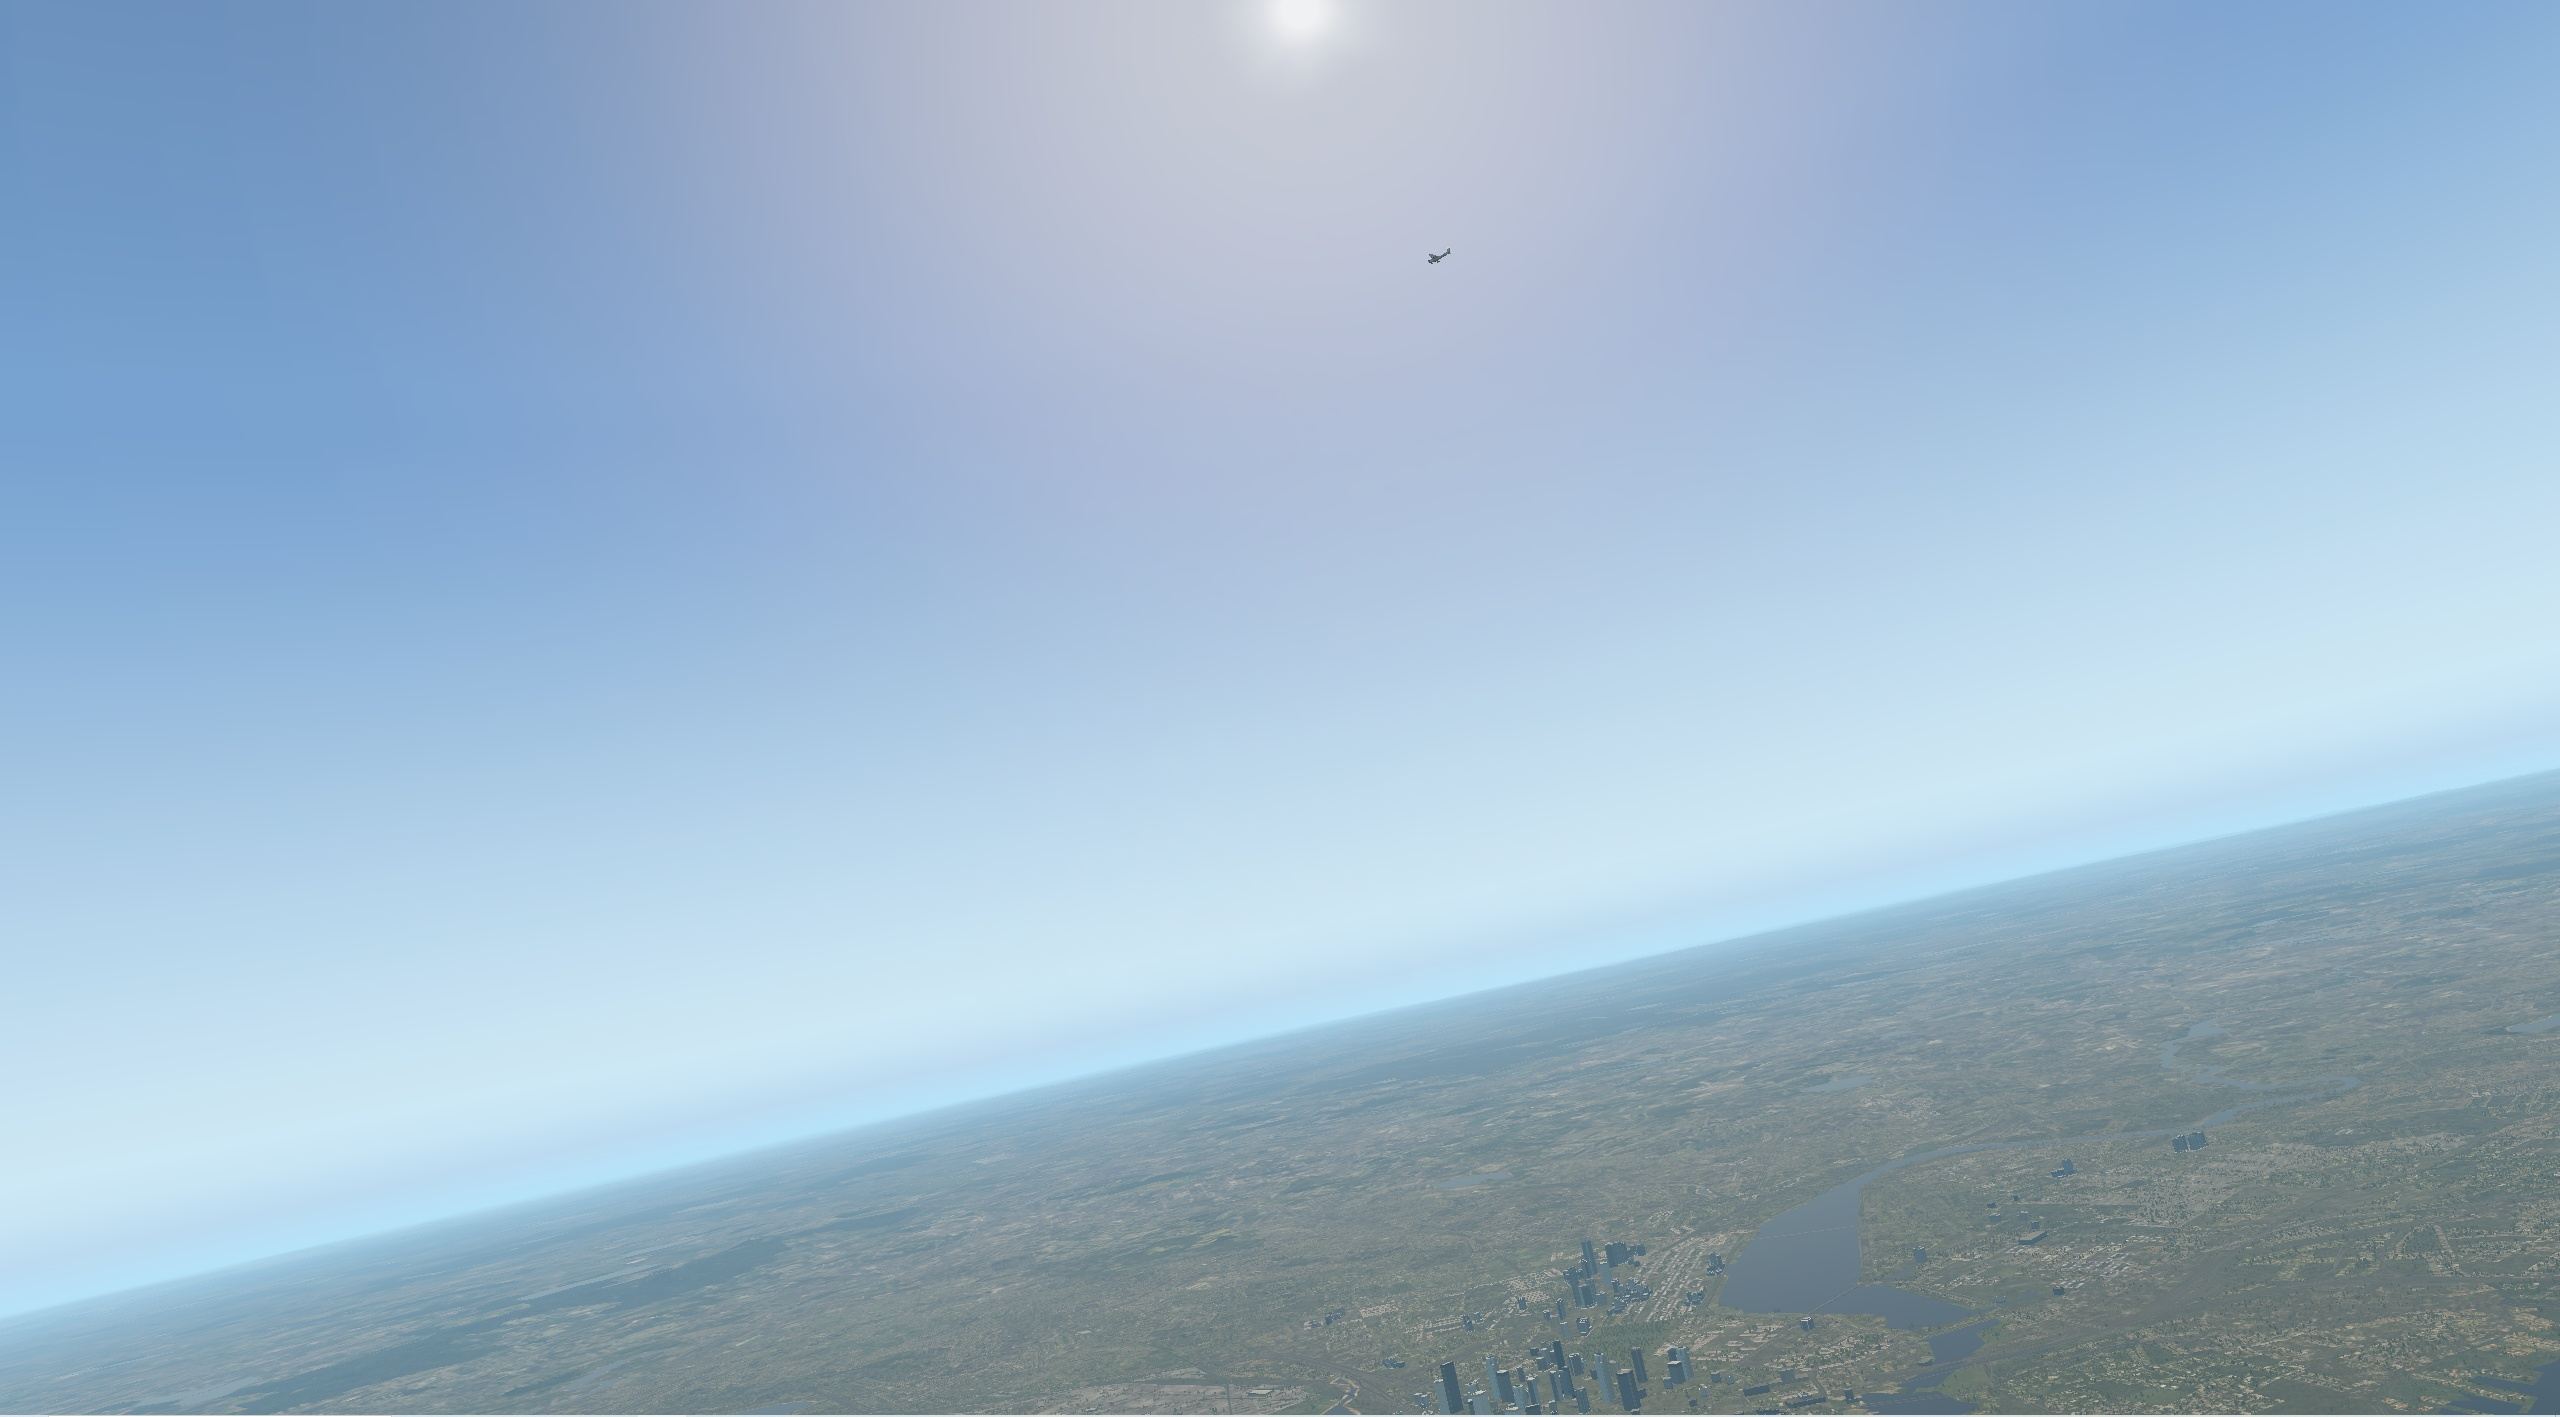aircraft: (1415, 251, 1454, 265)
